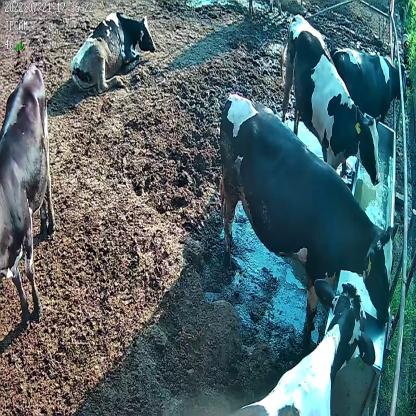cow: (216, 91, 392, 335), (220, 276, 377, 416), (280, 16, 380, 192), (0, 61, 57, 332), (69, 12, 156, 93), (331, 45, 412, 123)
